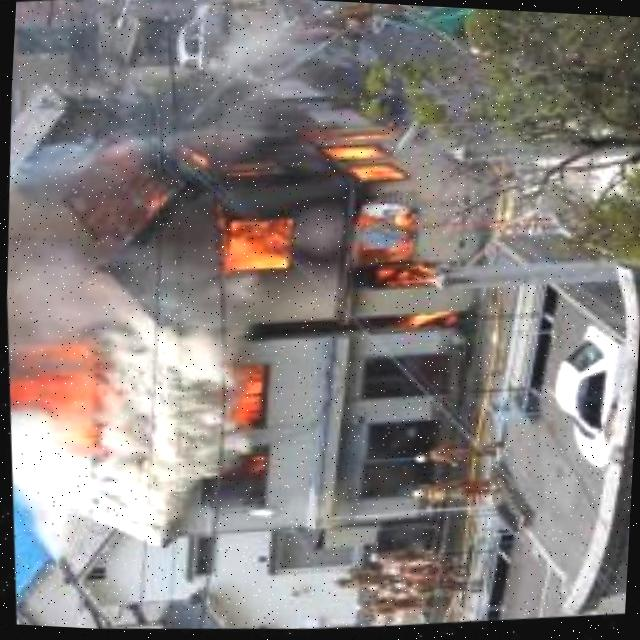fire: (178, 108, 458, 312), (0, 336, 110, 468), (223, 357, 269, 443)
